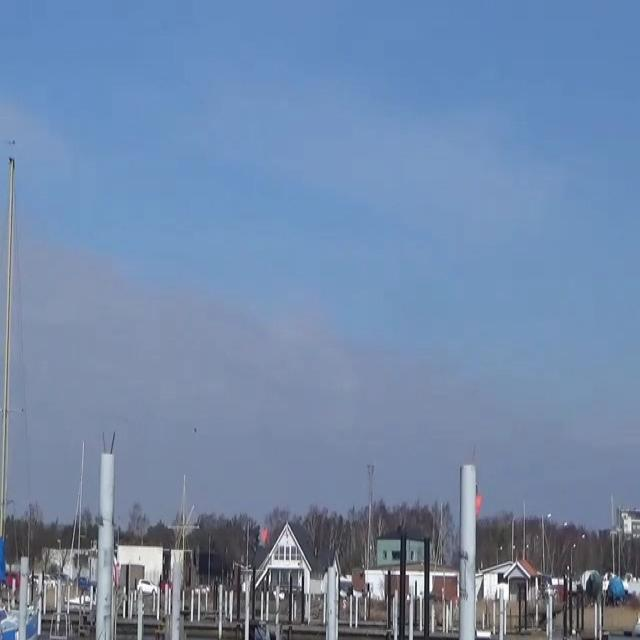bird: (192, 425, 200, 437)
